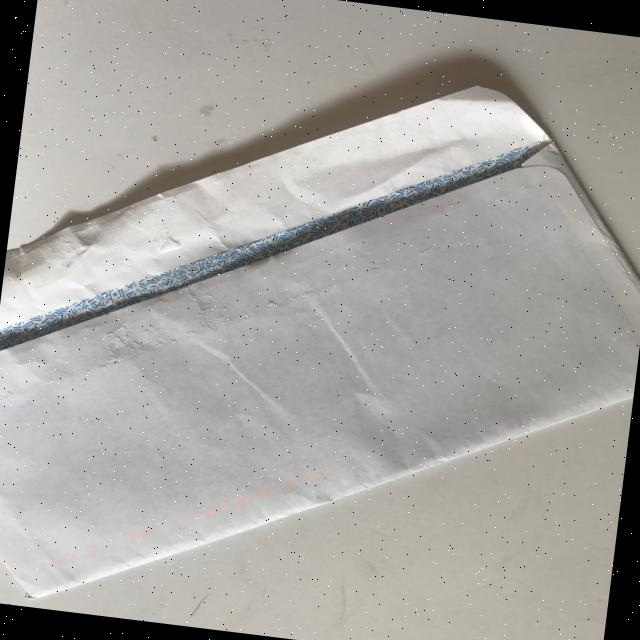paper: (0, 29, 640, 640)
